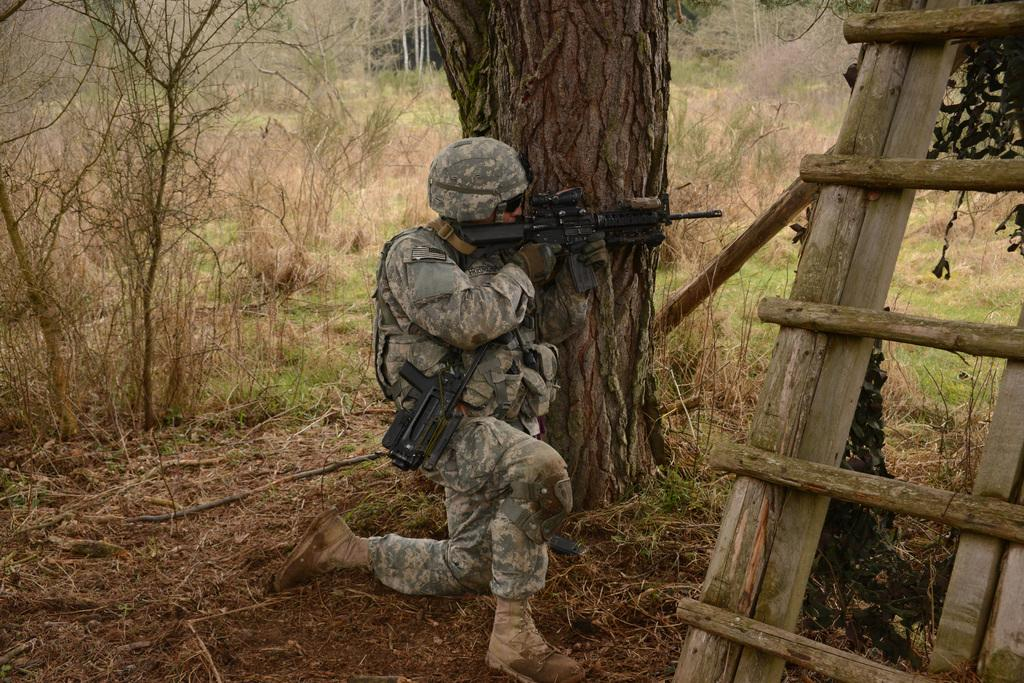Rifle: (434, 176, 718, 303), (372, 343, 490, 481)
